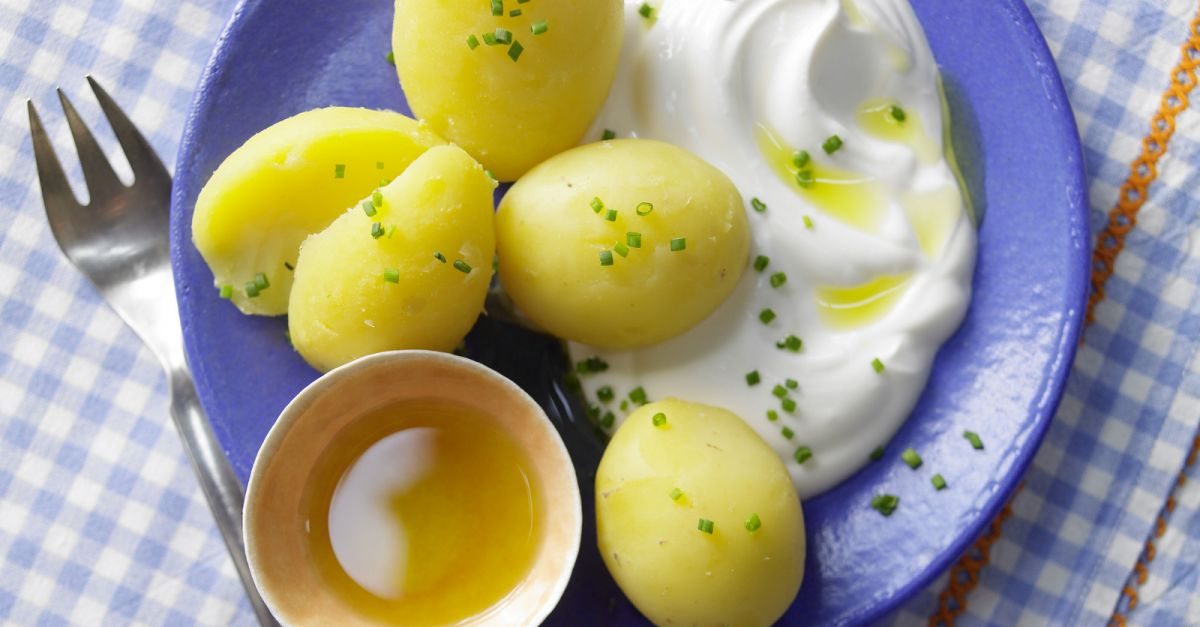boiled potatoes: (587, 395, 814, 622), (498, 132, 744, 333), (191, 109, 429, 307), (307, 152, 503, 363), (390, 1, 623, 157)
